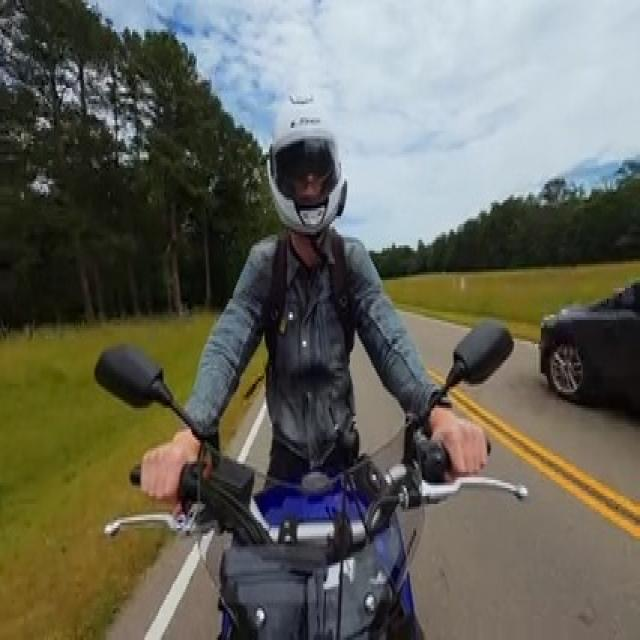Helmet_Wearer: (259, 68, 357, 253)
Person: (139, 84, 491, 504)
